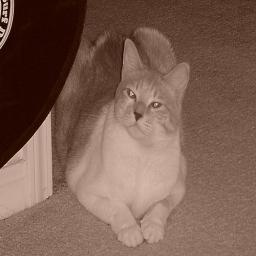catnose: (134, 108, 144, 122)
